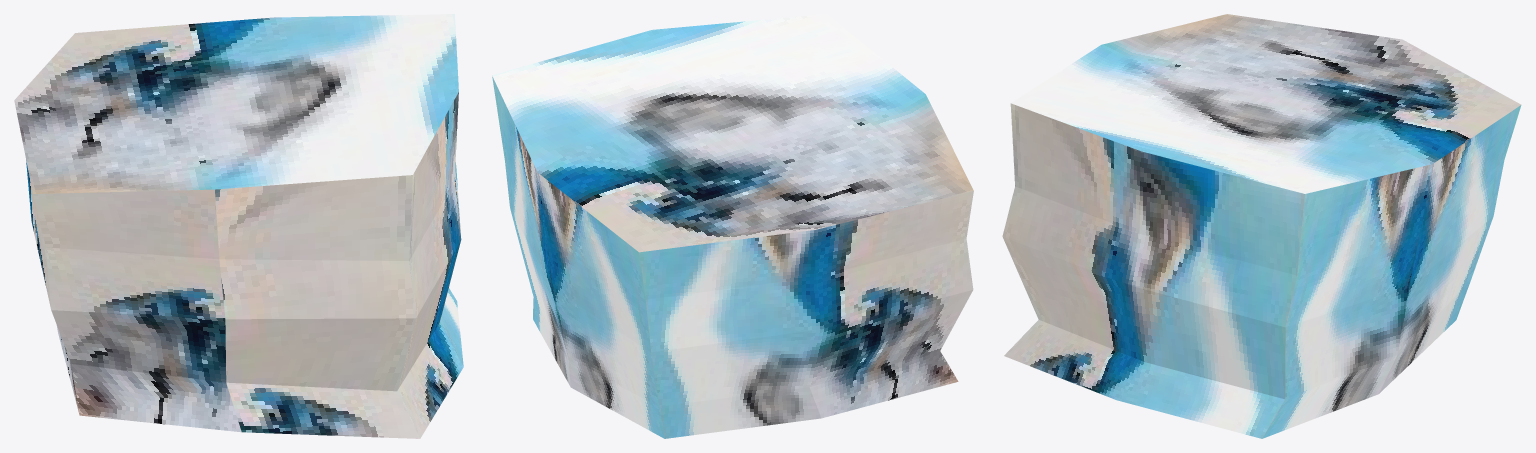
The picture shows the model from 3 angles, left to right: view 1: azimuth 30°, elevation 25°; view 2: azimuth 150°, elevation 25°; view 3: azimuth 270°, elevation 25°; orthographic projection. The views are drawn at different scales.
Parts seen in each view (by area): view 1: SPLICE_2.005; view 2: SPLICE_2.005; view 3: SPLICE_2.005.
Part boxes in pixels (left/top/right/bottom): SPLICE_2.005: left=14, top=14, right=463, bottom=438; SPLICE_2.005: left=492, top=14, right=973, bottom=438; SPLICE_2.005: left=1002, top=14, right=1521, bottom=438.
Bounding box in the file's own units: 1.83 × 1.03 × 1.86.
1 material, 1 textured.
